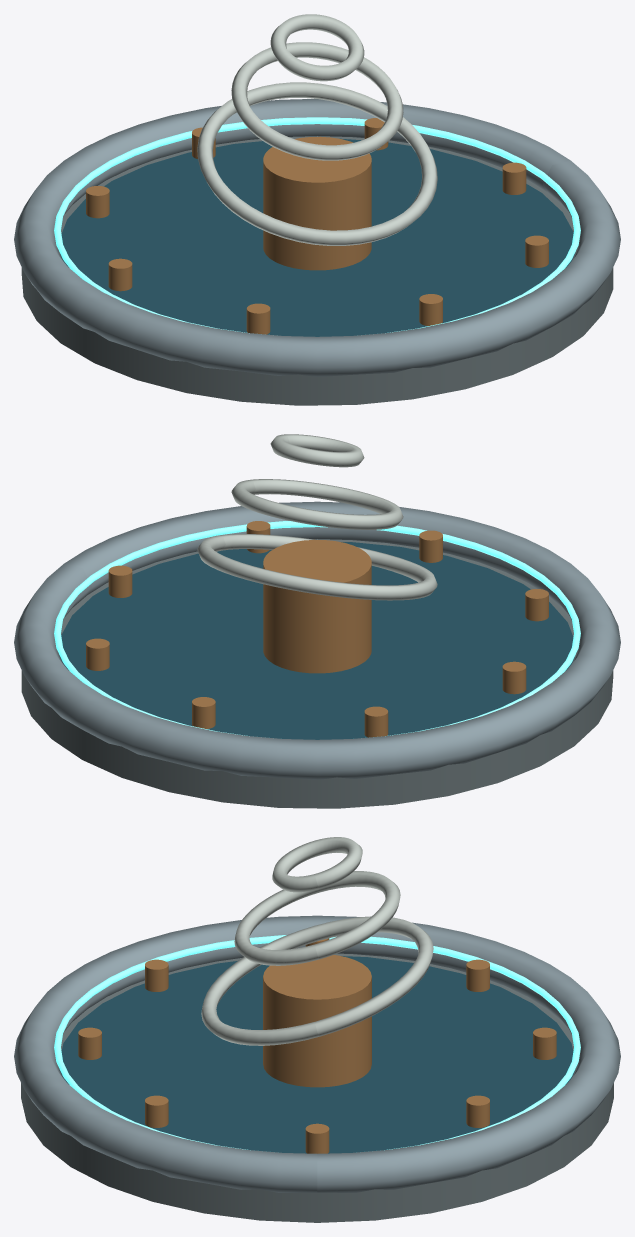
File: kinetic-fountain.lod0.glb
3 renders of one model, top to bottom at view 1: azimuth 30°, elevation 25°; view 2: azimuth 150°, elevation 25°; view 3: azimuth 270°, elevation 25°, orthographic.
Visible parts, largest first — view 1: structure, sculpture; view 2: structure, sculpture; view 3: structure, sculpture.
Boxes of the visible parts, left/top/right/bottom form: structure: left=14, top=98, right=620, bottom=405; sculpture: left=197, top=14, right=437, bottom=245; structure: left=14, top=501, right=620, bottom=808; sculpture: left=197, top=434, right=437, bottom=600; structure: left=14, top=915, right=620, bottom=1222; sculpture: left=201, top=837, right=433, bottom=1045.
Size of the model in its own units: 6.14 by 2.8 by 6.14.
